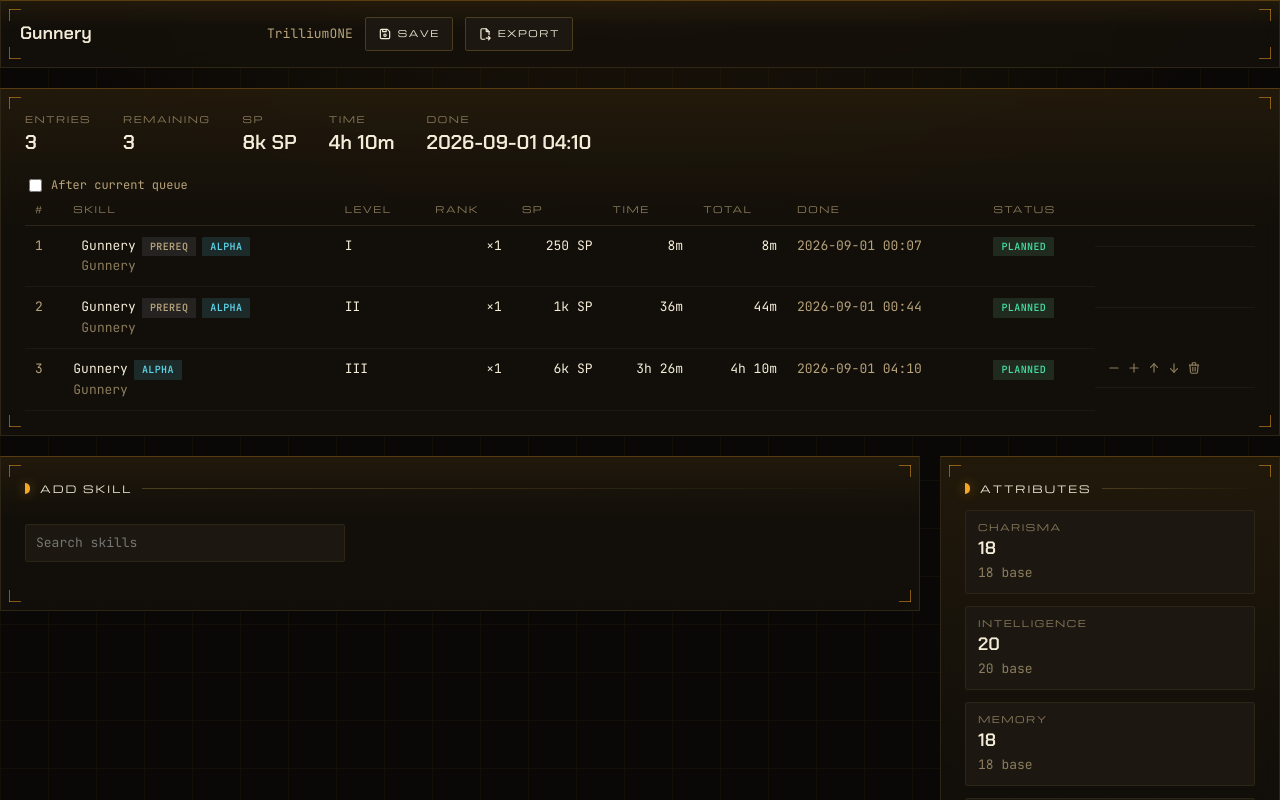
Test: PlanEditor › shifts the timeline to the end of the queue
Expected: the text "2026-09-01 04:10" is shown, [427,129,591,155]
Click the checkbox labelled "After current queue". click: (36, 185)
box: [29,179,42,192]
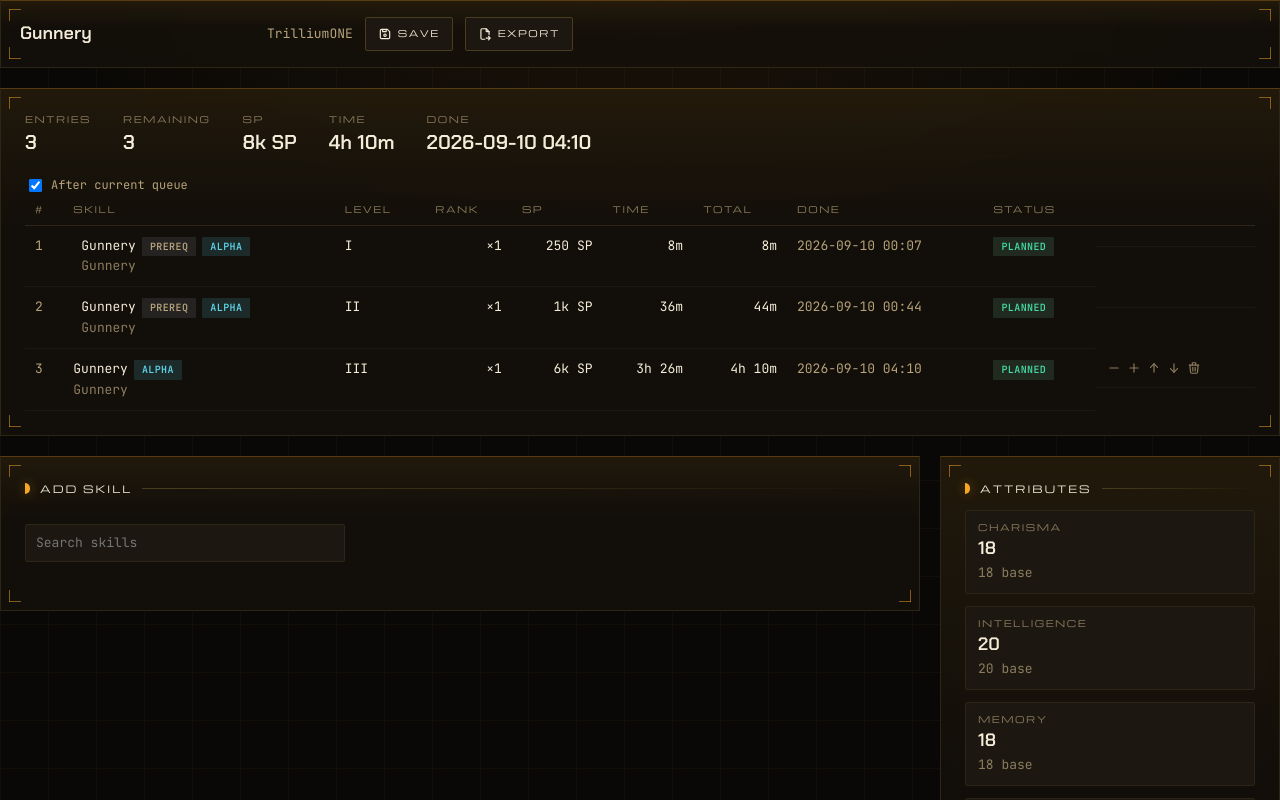
Result: the text "2026-09-10 04:10" is shown at [427,129,591,155]
